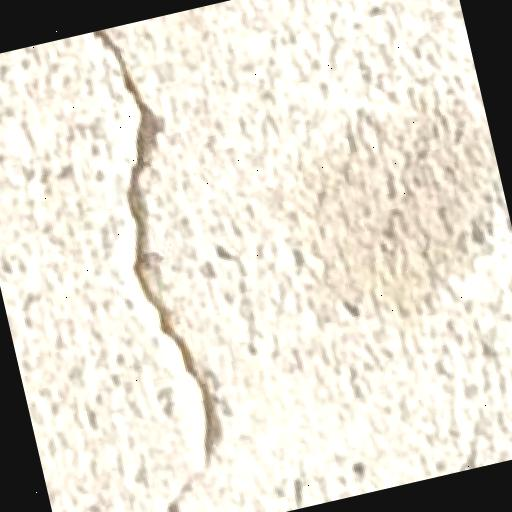spalling: (75, 25, 262, 512)
